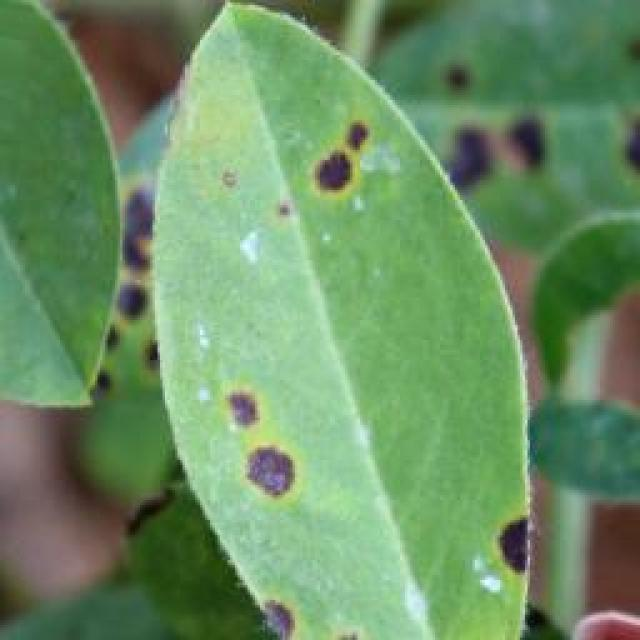Early_leaf_spot: (75, 161, 188, 387), (260, 60, 394, 226), (218, 512, 370, 640), (430, 75, 555, 201), (451, 486, 559, 599), (206, 369, 291, 510), (179, 137, 279, 236)
